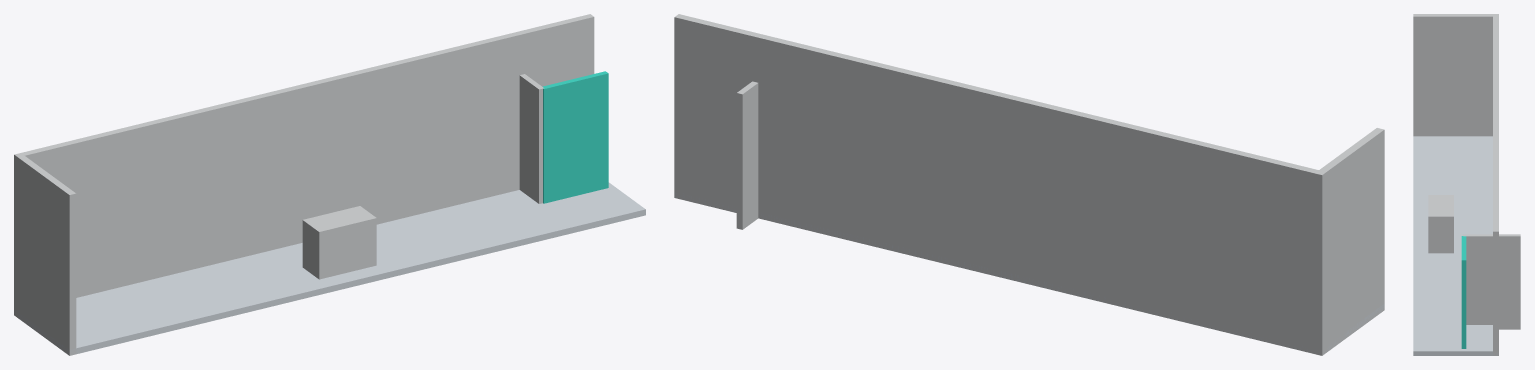
3 renders of one model, left to right at view 1: azimuth 30°, elevation 25°; view 2: azimuth 150°, elevation 25°; view 3: azimuth 270°, elevation 25°, orthographic. The views are drawn at different scales.
Visible parts, largest first — view 1: Exhibition Booth Concept; view 2: Exhibition Booth Concept; view 3: Exhibition Booth Concept.
Boxes of the visible parts, x1,y1,x2,y2 form: Exhibition Booth Concept: (14, 14, 645, 355); Exhibition Booth Concept: (674, 14, 1384, 355); Exhibition Booth Concept: (1413, 14, 1520, 355).
Bounding box in the file's own units: 12 × 3.2 × 2.5.
